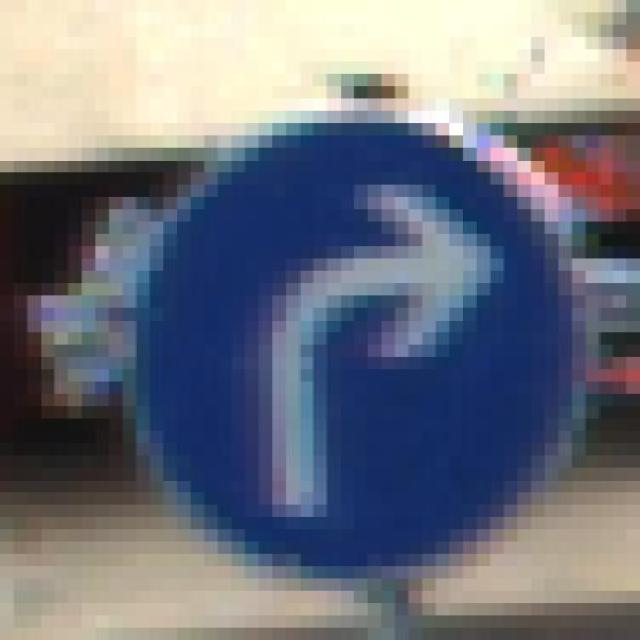Turn right ahead: (108, 99, 600, 578)
